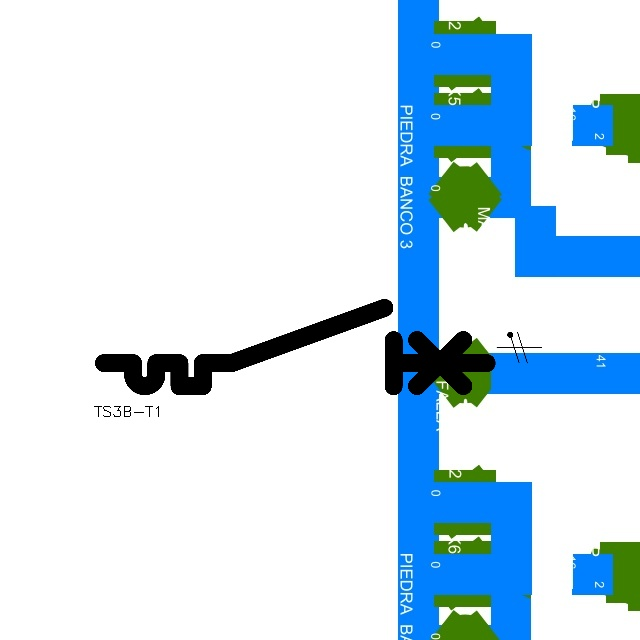interruptor_termomagnetico: (94, 298, 496, 396)
